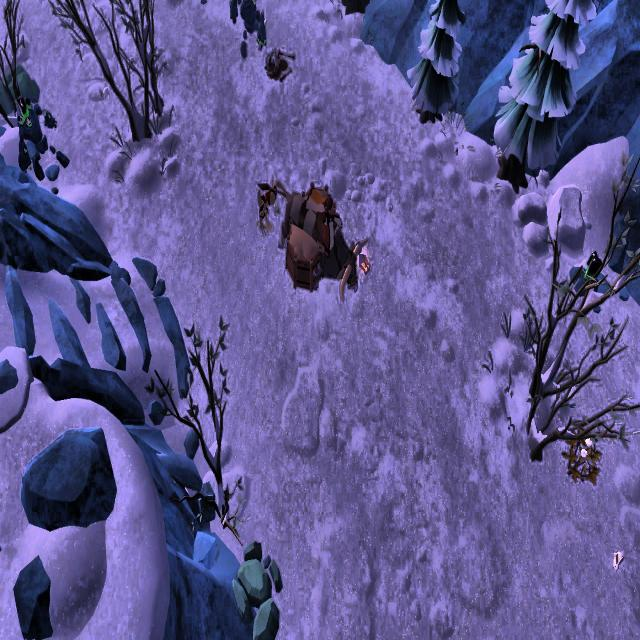enemy_factionUndead: (254, 167, 287, 238)
ore_t3: (582, 246, 603, 284)
rock_t3: (230, 539, 288, 640)
